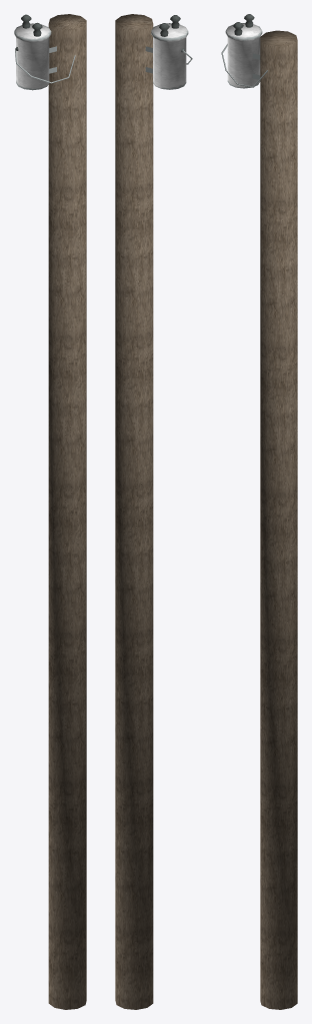
The model's file is Tiang kabel 1,2.fbx.
The picture shows the model from 3 angles, left to right: view 1: azimuth 30°, elevation 25°; view 2: azimuth 150°, elevation 25°; view 3: azimuth 330°, elevation 25°; orthographic projection.
Parts seen in each view (by area): view 1: SingleWoodPole_LOD0; view 2: SingleWoodPole_LOD0; view 3: SingleWoodPole_LOD0.
Part boxes in pixels (x1,y1,x2,y2): SingleWoodPole_LOD0: (14,14,86,1009); SingleWoodPole_LOD0: (115,14,192,1009); SingleWoodPole_LOD0: (221,14,297,1009).
Size of what is drawn, in the model's own units: 37.9 by 506 by 21.86.
